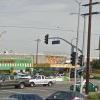Traffic light: (38, 29, 56, 53)
